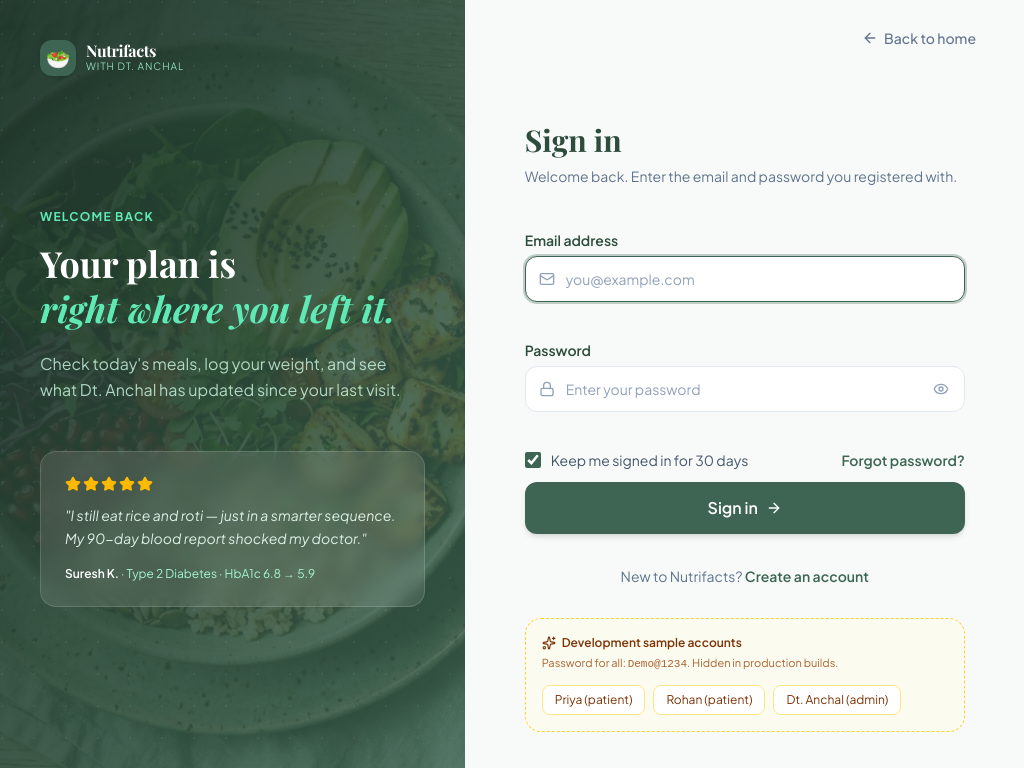
Test: sign-in page › ignores an off-site "next" (open-redirect protection)
Type "priya.sharma@example.com" into the field labelled "Email address" at coordinates (745, 279), box [525,256,965,302]
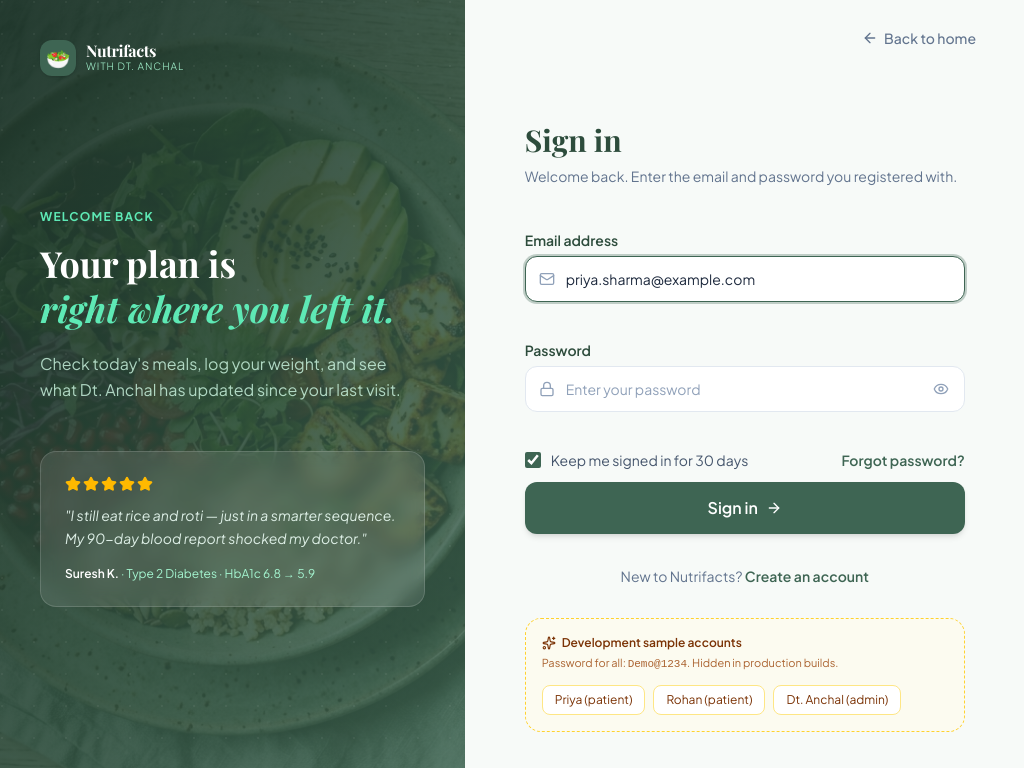
Type "Demo@1234" into the password field labelled "Password" at coordinates (745, 389), box [525,366,965,412]
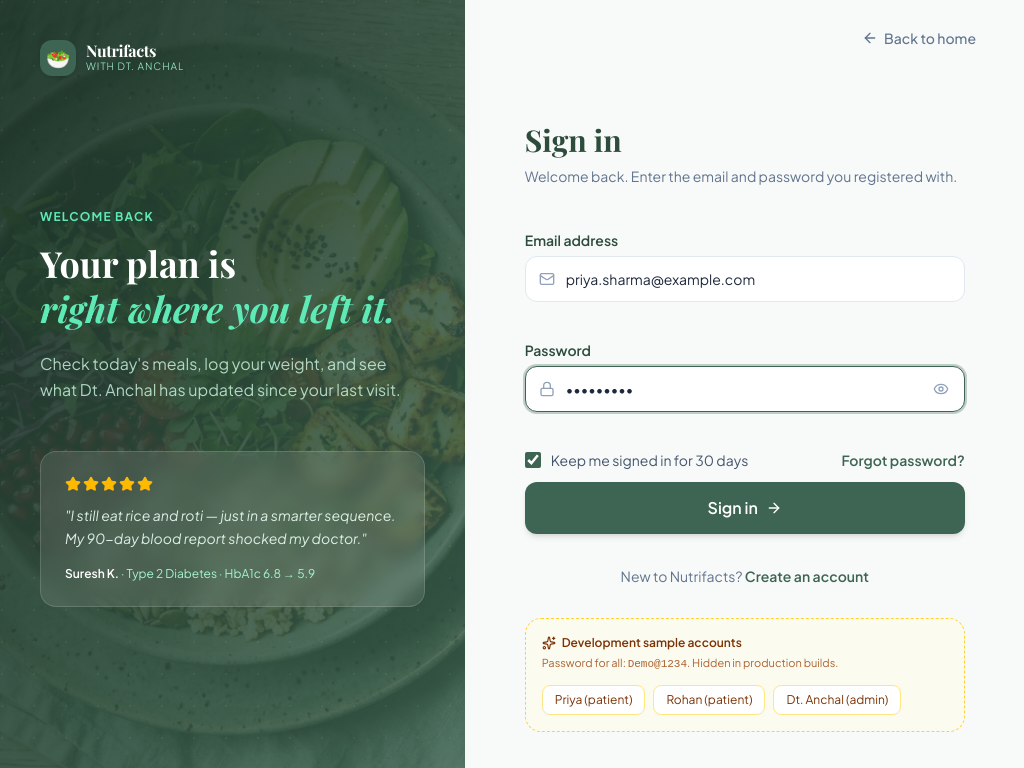
Click the button "Sign in" at coordinates (745, 508), box [525,482,965,534]
(page scrolled)
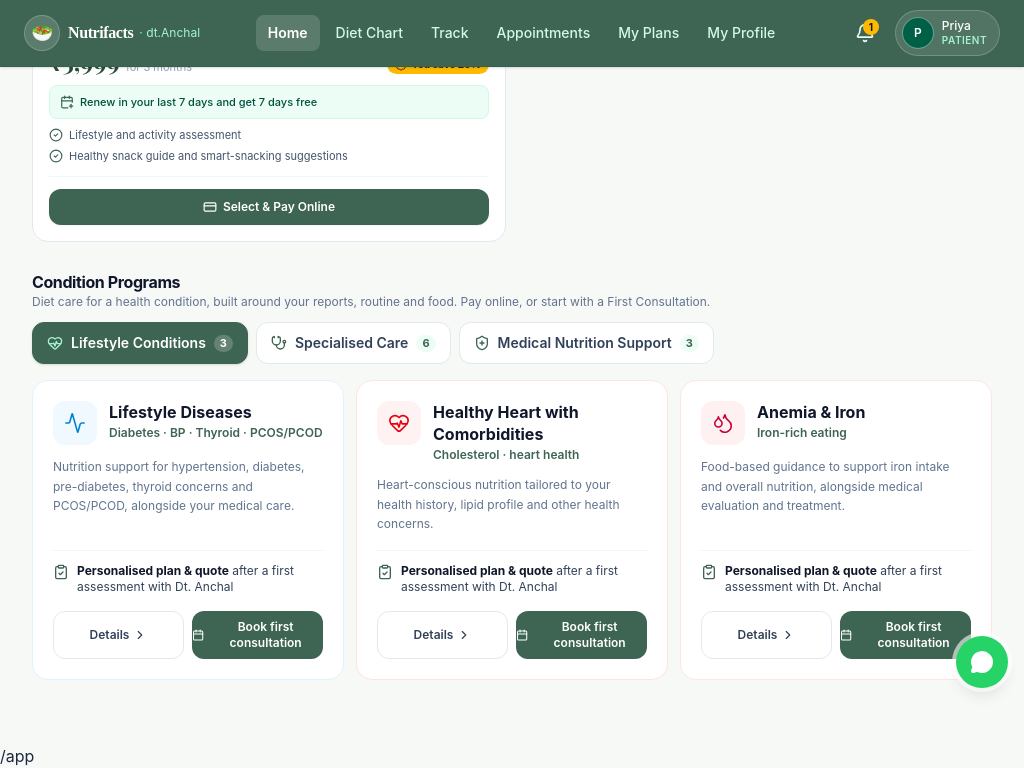
Expected: the text with test id "location" reads "/app", [0,746,34,766]
